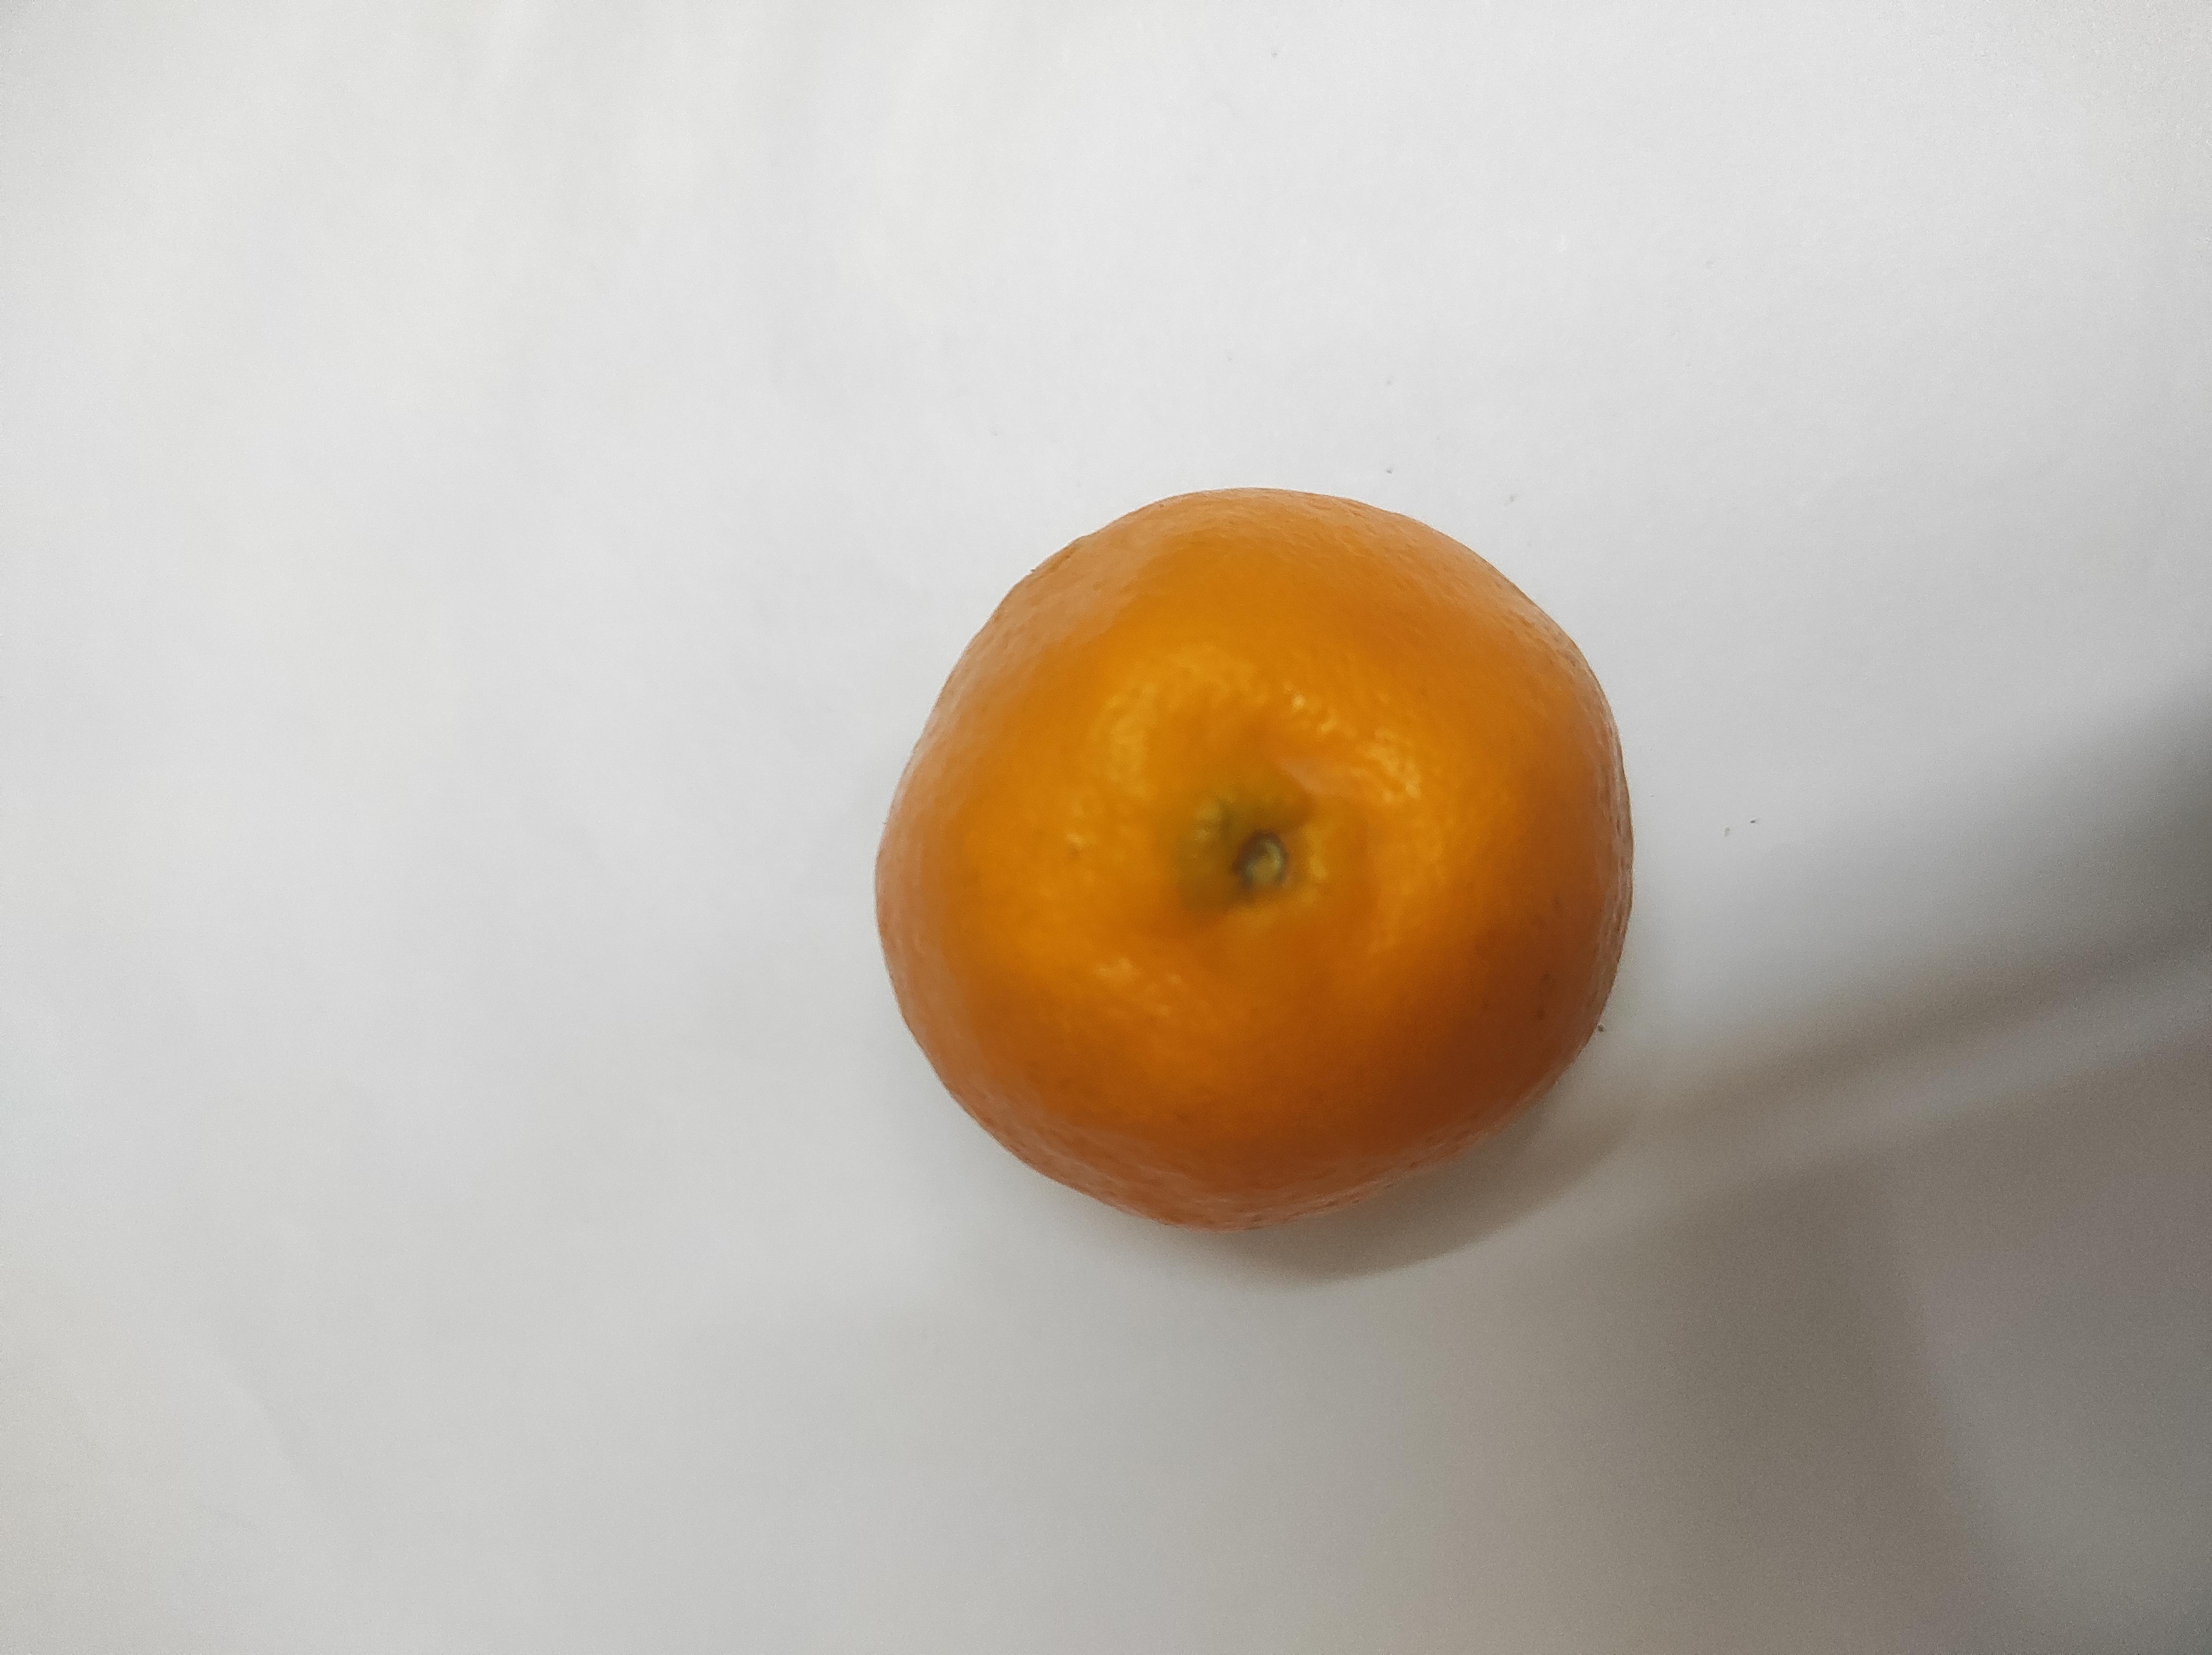Ripe: (882, 490, 1635, 1226)
